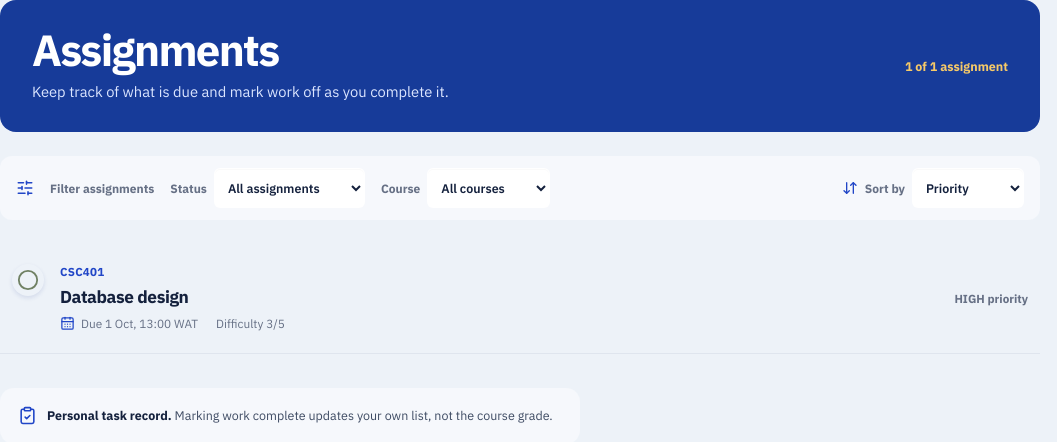
Test: completion updates the personal task and filters completed work
Click the button named "Mark completed": [28, 280] box [12,264,44,296]
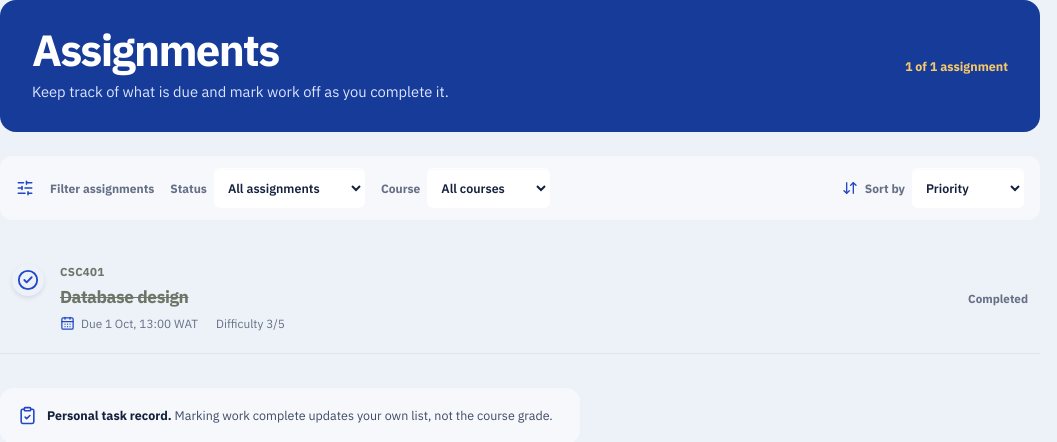
Check: the button named "Mark pending" is shown, box [12,264,44,296]
Select "To do" in the dropdown labelled "Status": [289, 188] box [214,168,365,208]
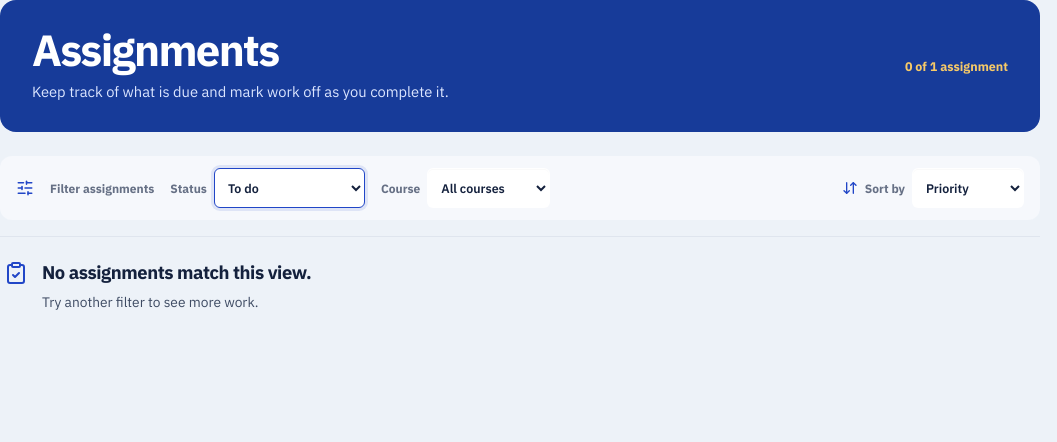
Check: the heading "No assignments match this view." is shown, box [42,261,311,284]
